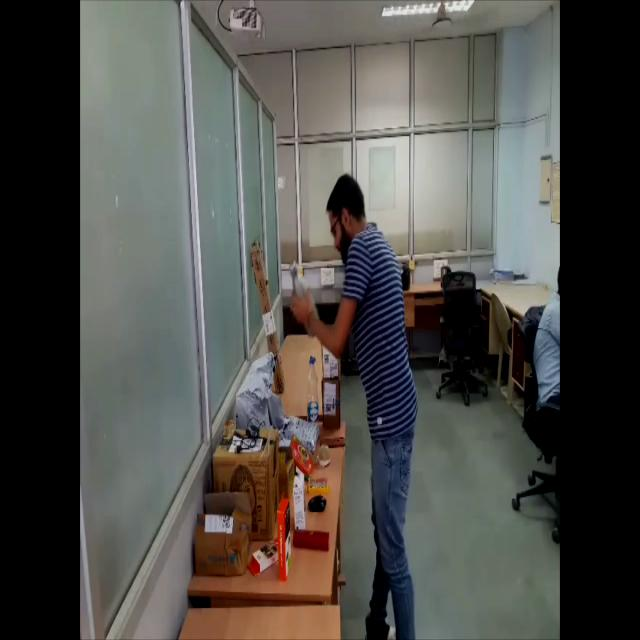normal: (289, 147, 421, 640)
